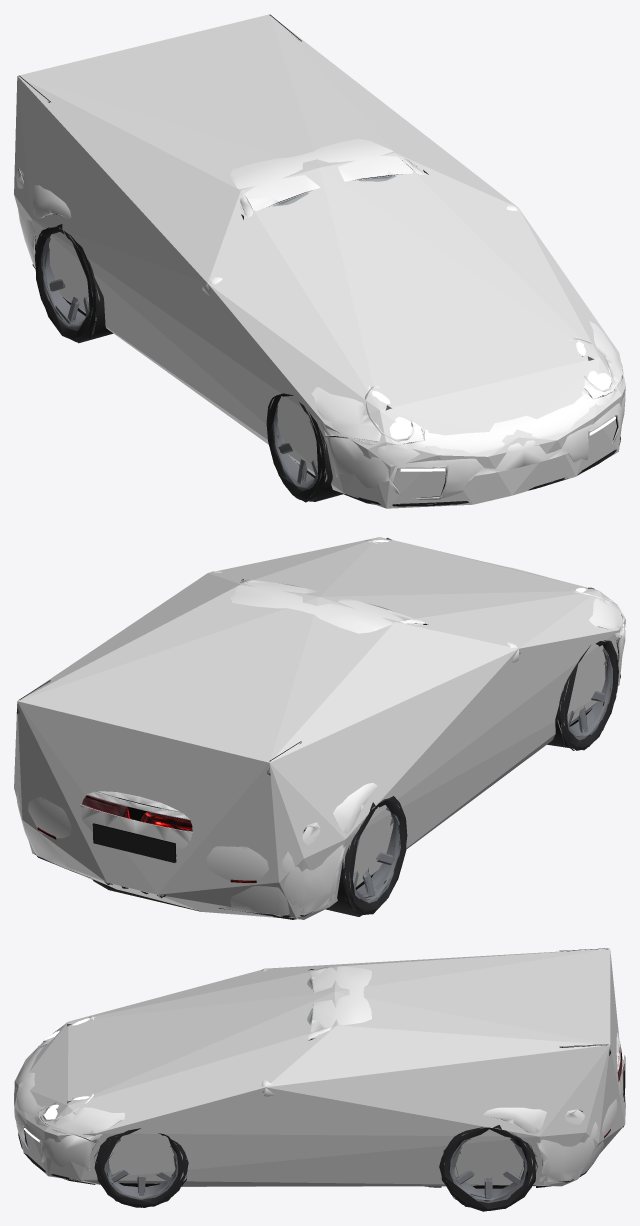
File: noctra_tayfun_lod1.glb
3 views of the same model, one above another, from view 1: azimuth 30°, elevation 25°; view 2: azimuth 150°, elevation 25°; view 3: azimuth 270°, elevation 25° (orthographic). The views are drawn at different scales.
Visible parts, largest first — view 1: col_body, body, wheel_RR, wheel_FR, lights_front, trim; view 2: col_body, body, wheel_RR, wheel_FR, trim, lights_rear; view 3: col_body, body, wheel_RL, wheel_FL, trim.
Boxes of the visible parts, x1,y1,x2,y2 form: col_body: (14,14,625,508); body: (16,138,625,499); wheel_RR: (35,224,113,343); wheel_FR: (266,393,342,502); lights_front: (371,341,615,471); trim: (19,14,622,506); col_body: (14,537,625,919); body: (16,540,625,914); wheel_RR: (325,796,407,916); wheel_FR: (547,640,618,750); trim: (16,537,622,919); lights_rear: (37,795,306,882); col_body: (14,948,625,1186); body: (14,966,623,1181); wheel_RL: (439,1125,537,1211); wheel_FL: (94,1128,188,1207); trim: (18,948,625,1188).
Bounding box in the file's own units: 2.03 × 1.27 × 4.34.
Materials: 8 (1 with a texture image).
